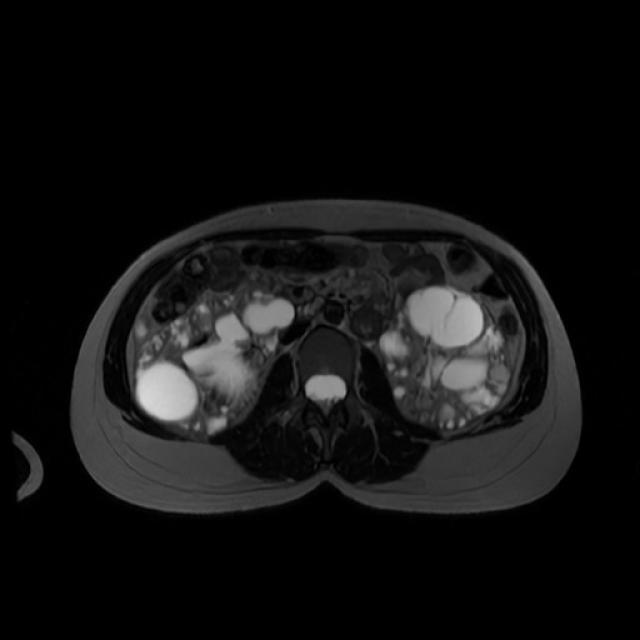sag: (137, 289, 294, 430)
sol: (381, 284, 510, 432)
